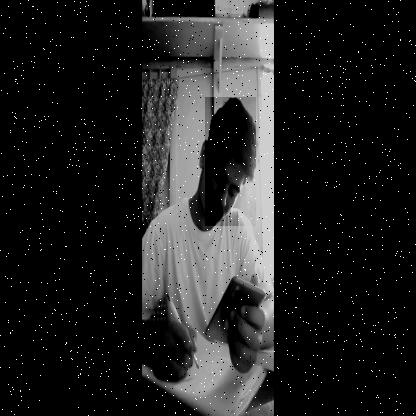Distracted: (205, 97, 256, 226)
